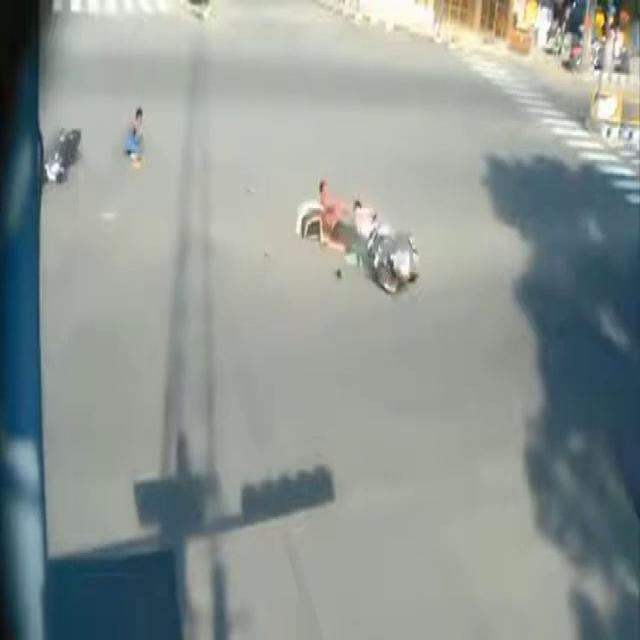accident: (287, 150, 433, 314), (52, 95, 176, 212)
